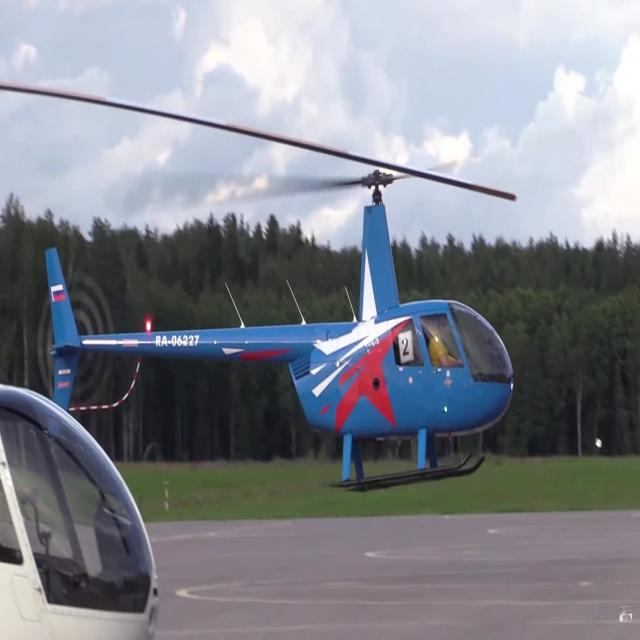CIV_HELO: (43, 167, 514, 493)
